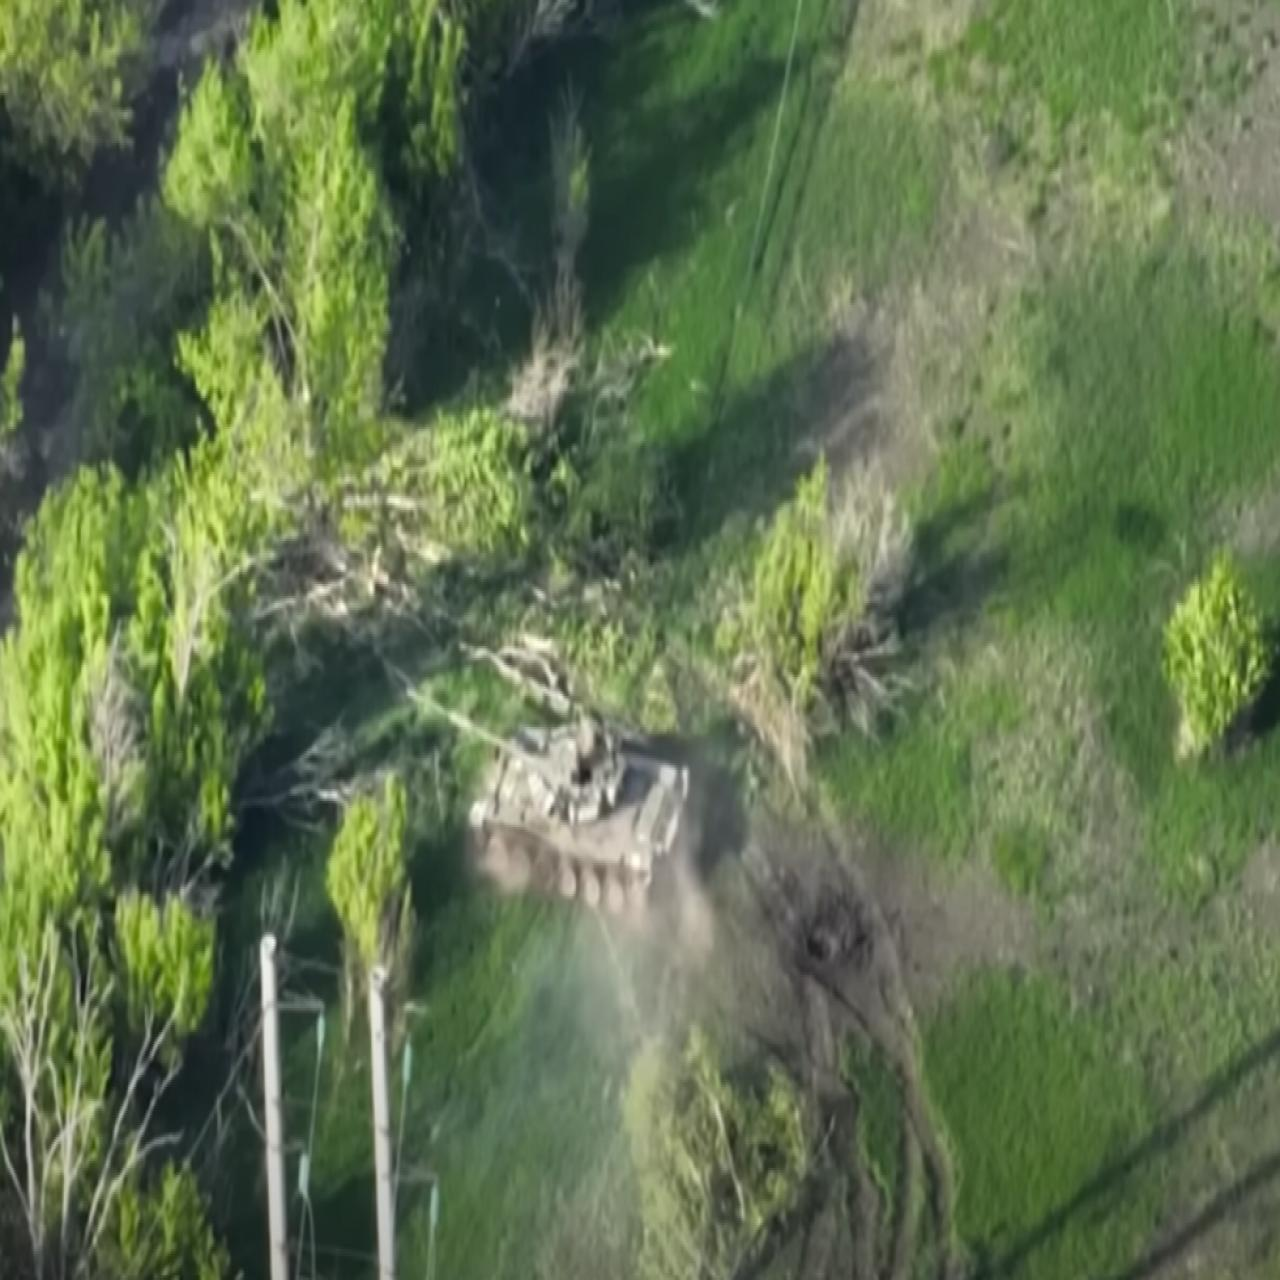MIL_Veh: (389, 670, 701, 915)
